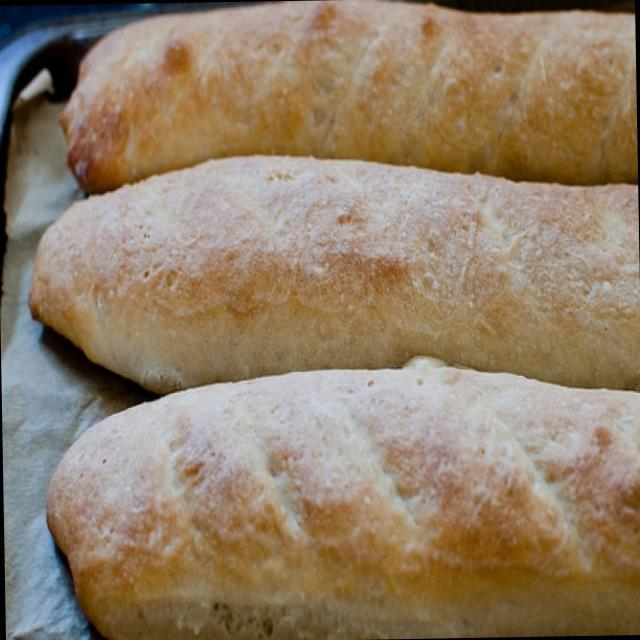Bread: (44, 0, 638, 640)
